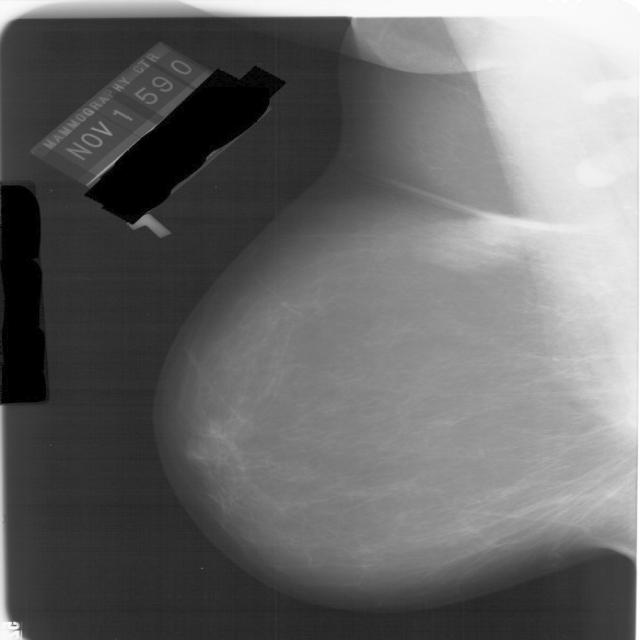tumour: (432, 219, 530, 264)
